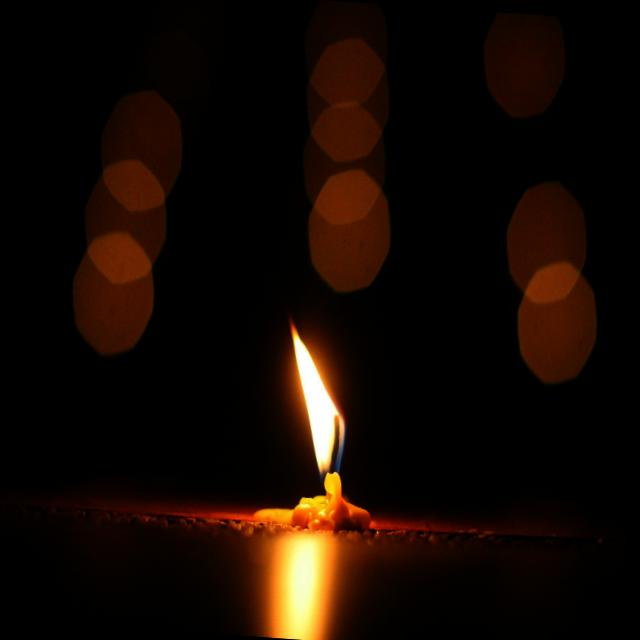Fire_Save: (252, 308, 386, 534)
